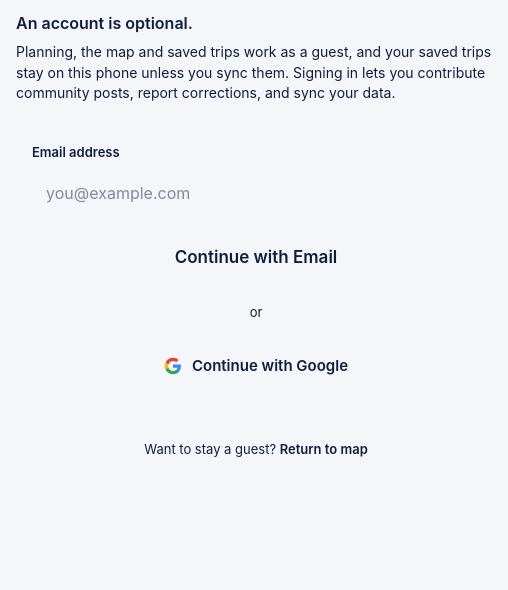
Test: SignInScreen (S21) › moves to the code step only after the service accepts the email
The width and height of the screenshot is (508, 590).
Type "commuter@example.com" into the field labelled "Email address". click: (256, 193)
box: [32,169,480,217]
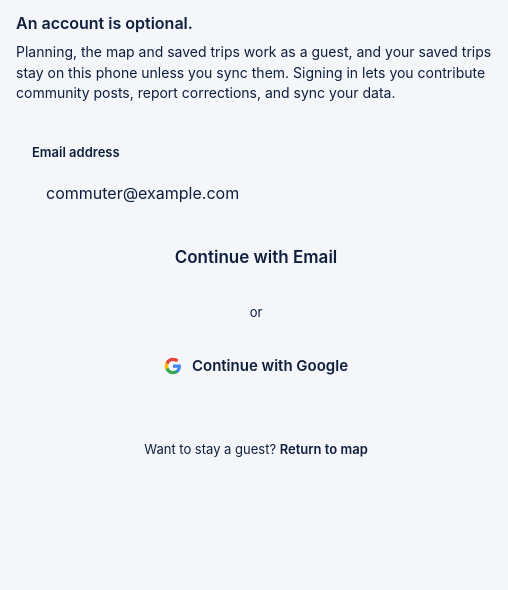
Click the button with test id "send-otp-btn". click: (256, 258)
box: [32,233,480,283]
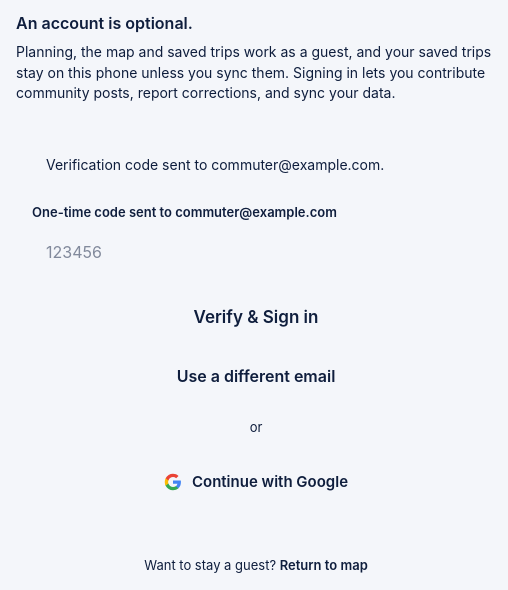
Expected: the button with test id "verify-otp-btn" is shown, [32,292,480,342]
